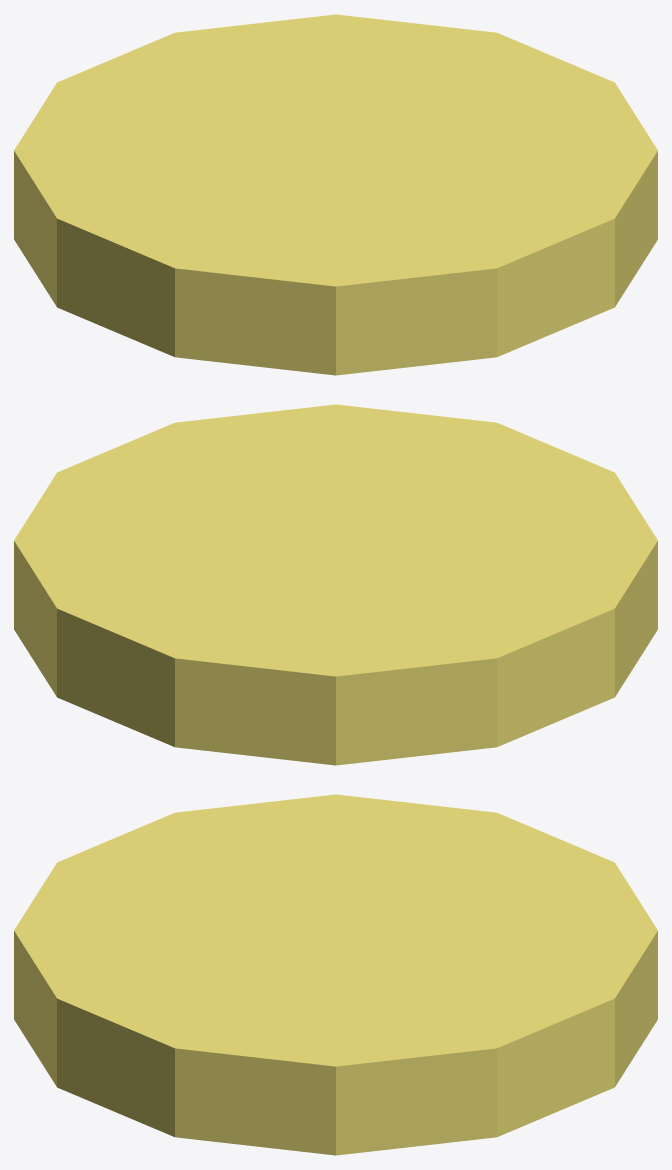
Rendered from yardage_marker_01.glb.
The picture shows the model from 3 angles, top to bottom: view 1: azimuth 30°, elevation 25°; view 2: azimuth 150°, elevation 25°; view 3: azimuth 270°, elevation 25°; orthographic projection.
Visible parts, largest first — view 1: Yardage_marker_01; view 2: Yardage_marker_01; view 3: Yardage_marker_01.
Part boxes in pixels (box(x1,y1,x2,y2)): Yardage_marker_01: box(14, 14, 657, 375); Yardage_marker_01: box(14, 404, 657, 765); Yardage_marker_01: box(14, 794, 657, 1155).
Bounding box in the file's own units: 0.3281 × 0.05 × 0.3281.
